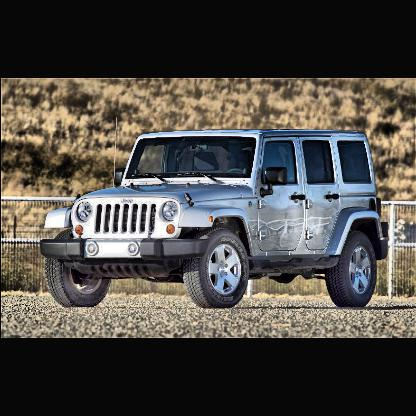Jeep Wrangler SUV 2012: (42, 131, 390, 310)
